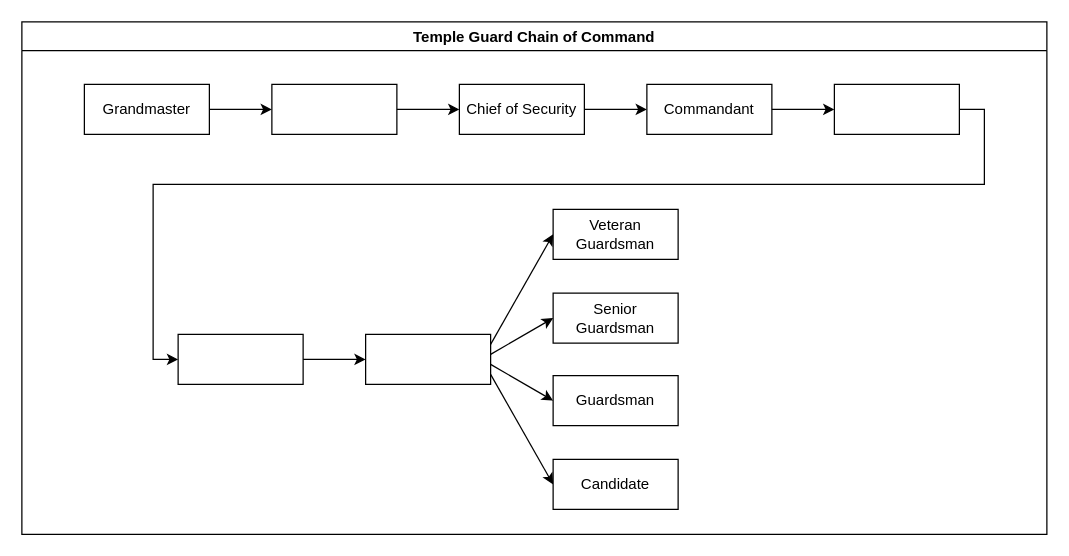
This 1069x556 diagram has some shape labels left out. Each missing label, with the centre of its shape:
Captain: point (896, 108)
Instructor: point (427, 358)
Master of the Order: point (334, 108)
Warden: point (240, 358)
